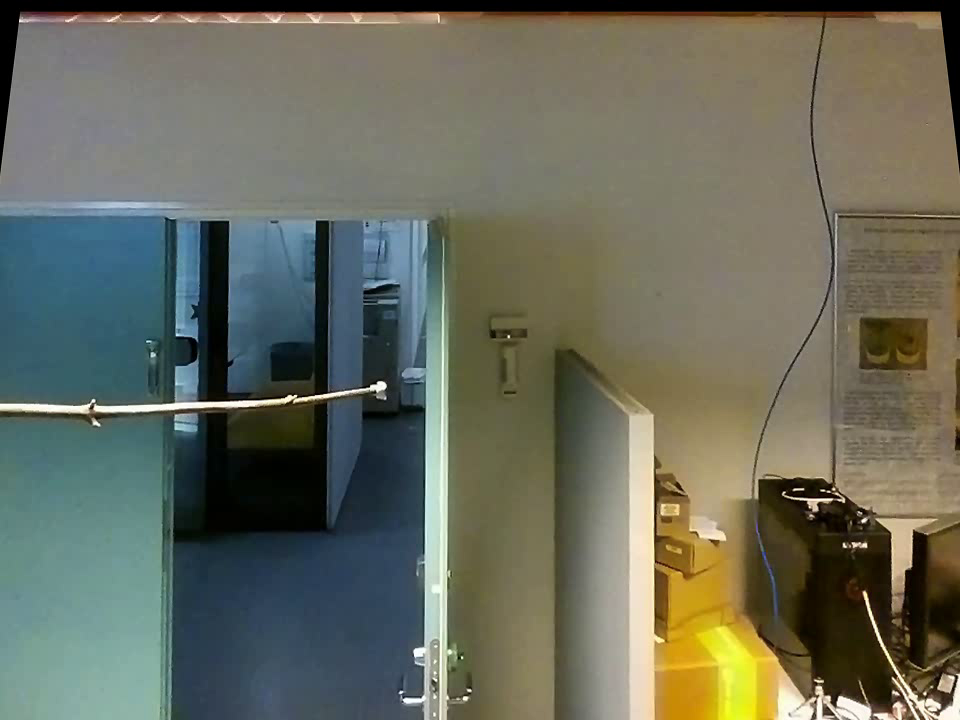branch: (3, 373, 368, 436)
